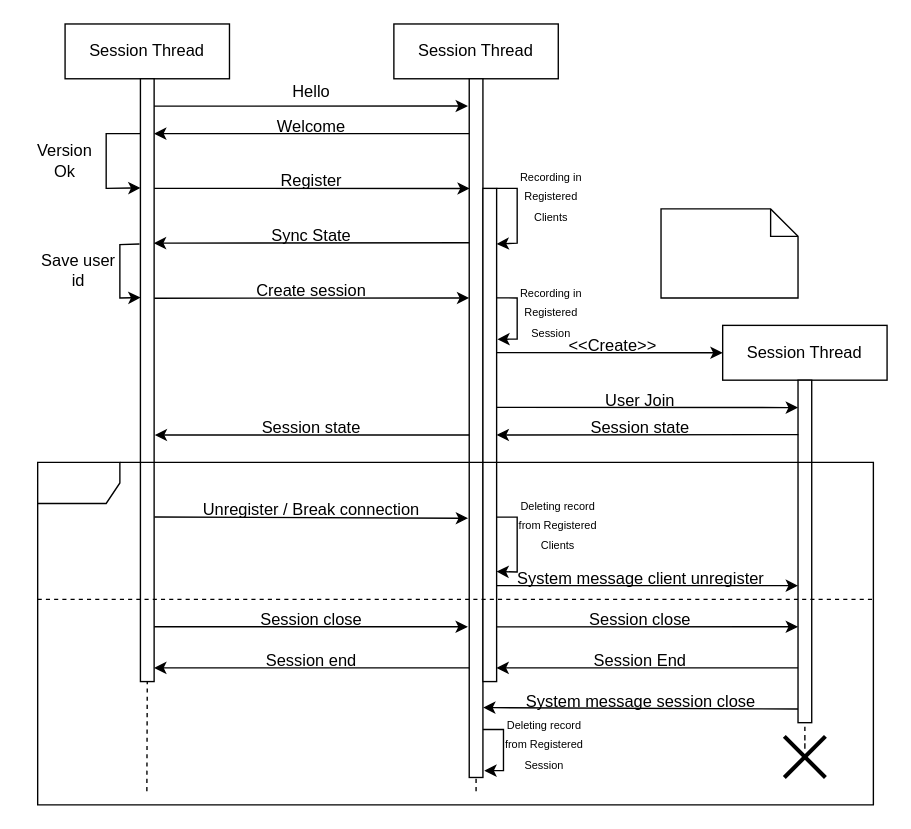
This 911x829 diagram has some shape labels left out. Each missing label, with the box of its shape:
Alt: (36, 461, 873, 805)
Session receive session bus: (660, 208, 798, 298)
